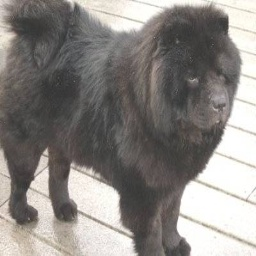dog: (8, 2, 242, 256)
